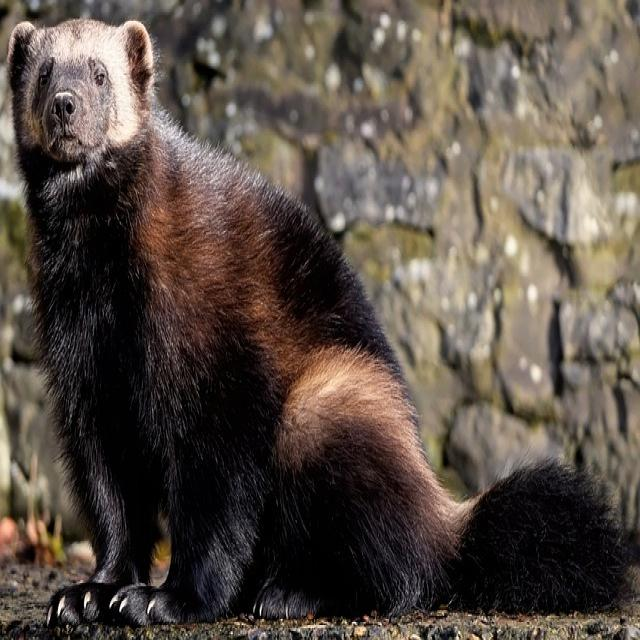Carnivorous: (4, 18, 634, 633)
